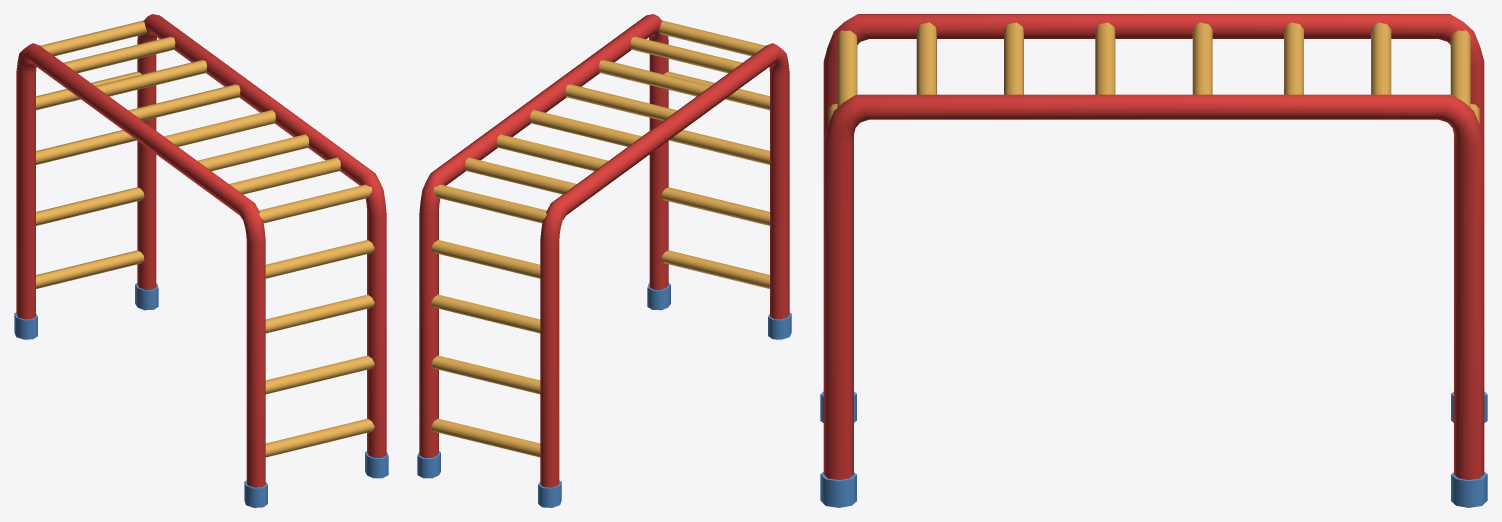
File: ClimbingFrame_08.fbx
3 views of the same model, side by side, from view 1: azimuth 30°, elevation 25°; view 2: azimuth 150°, elevation 25°; view 3: azimuth 270°, elevation 25° (orthographic). The views are drawn at different scales.
Visible parts, largest first — view 1: ClimbingFrame_08; view 2: ClimbingFrame_08; view 3: ClimbingFrame_08.
Boxes of the visible parts, bbox=[...] form: ClimbingFrame_08: bbox=[14, 14, 388, 507]; ClimbingFrame_08: bbox=[417, 14, 791, 507]; ClimbingFrame_08: bbox=[820, 14, 1487, 507].
Size of the model in its own units: 0.9444 by 1.9 by 2.82.
